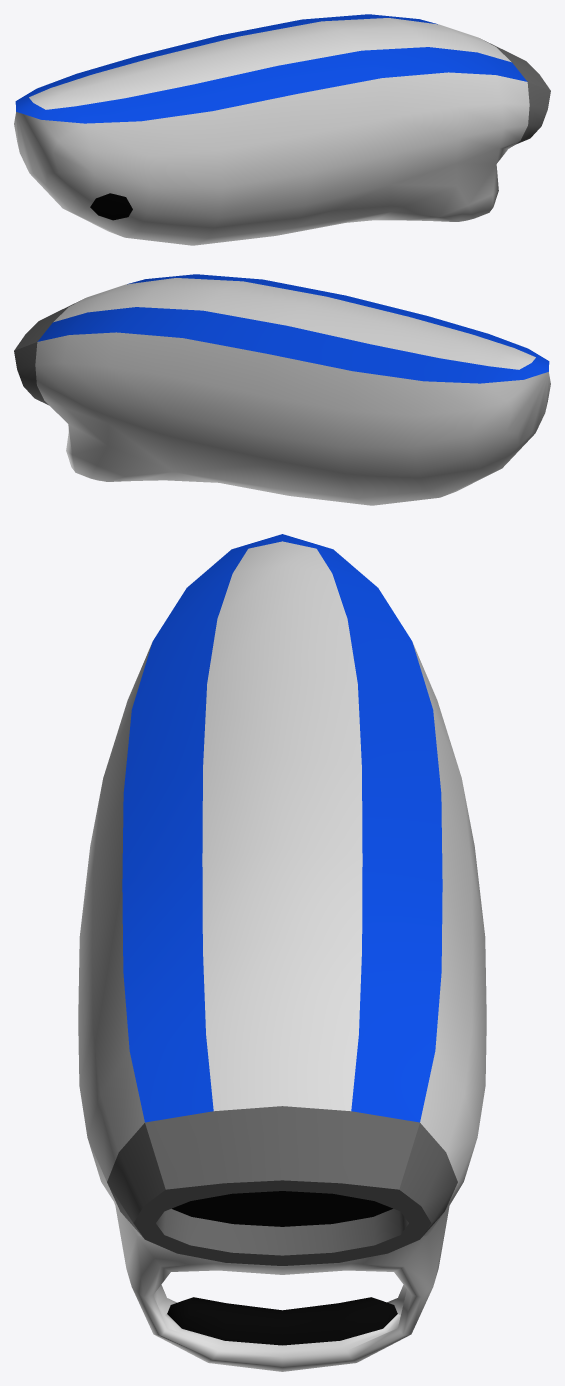
Rendered from SeaScooter.fbx.
3 renders of one model, top to bottom at view 1: azimuth 30°, elevation 25°; view 2: azimuth 150°, elevation 25°; view 3: azimuth 270°, elevation 25°, orthographic. The views are drawn at different scales.
Visible parts, largest first — view 1: Cylinder.001; view 2: Cylinder.001; view 3: Cylinder.001.
Boxes of the visible parts, <box> form: Cylinder.001: <box>14,14,550,245</box>; Cylinder.001: <box>14,274,550,505</box>; Cylinder.001: <box>78,534,486,1371</box>.
Size of the model in its own units: 521 by 208 by 180.
